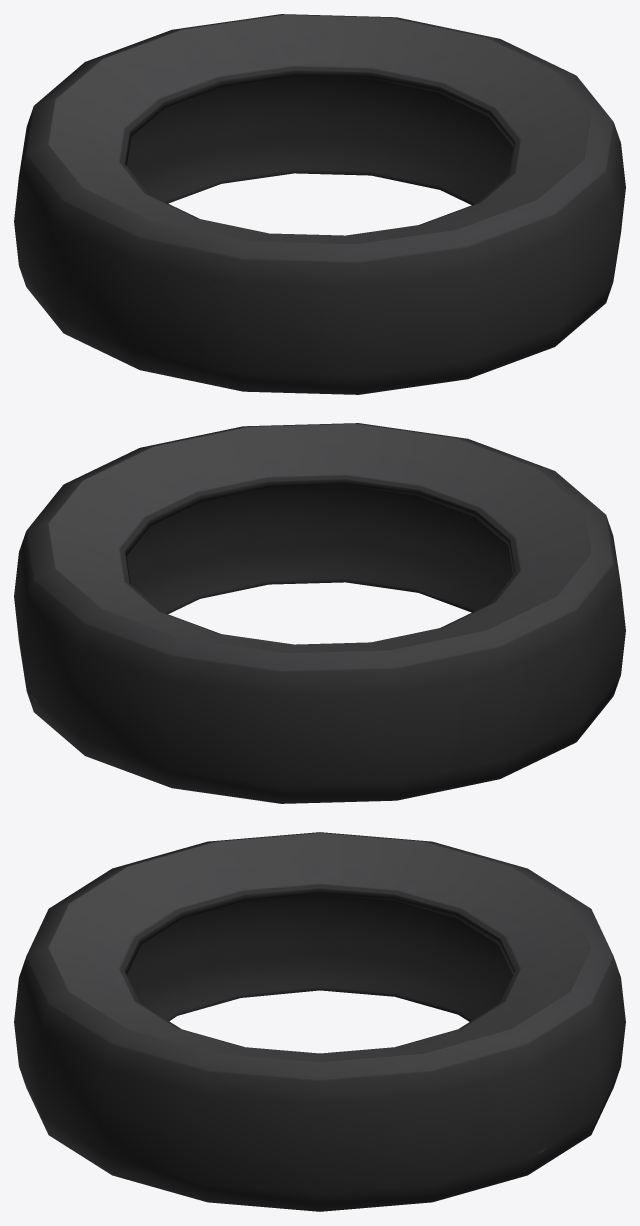
The model's file is tire.fbx.
3 views of the same model, one above another, from view 1: azimuth 30°, elevation 25°; view 2: azimuth 150°, elevation 25°; view 3: azimuth 270°, elevation 25° (orthographic).
Parts seen in each view (by area): view 1: tire; view 2: tire; view 3: tire.
Part boxes in pixels (left/top/right/bottom): tire: left=14, top=14, right=625, bottom=394; tire: left=14, top=423, right=625, bottom=803; tire: left=14, top=832, right=625, bottom=1211.
Bounding box in the file's own units: 2.98 × 0.7969 × 2.98.
1 material, 1 textured.
